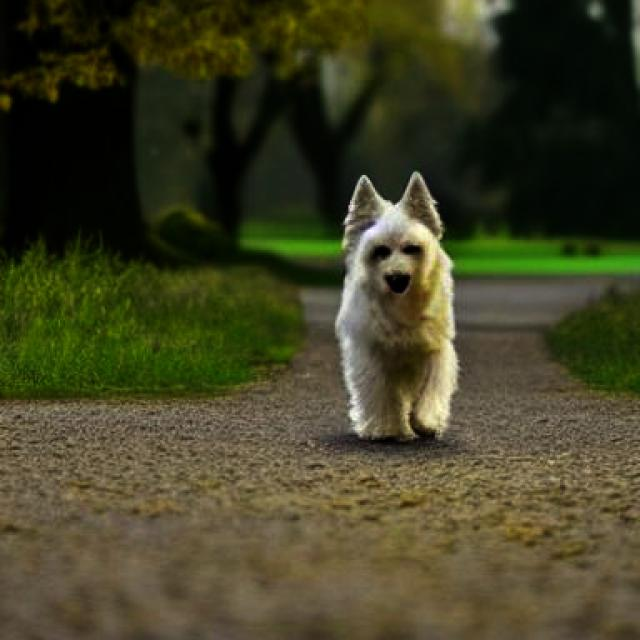Dog: (334, 171, 459, 444)
